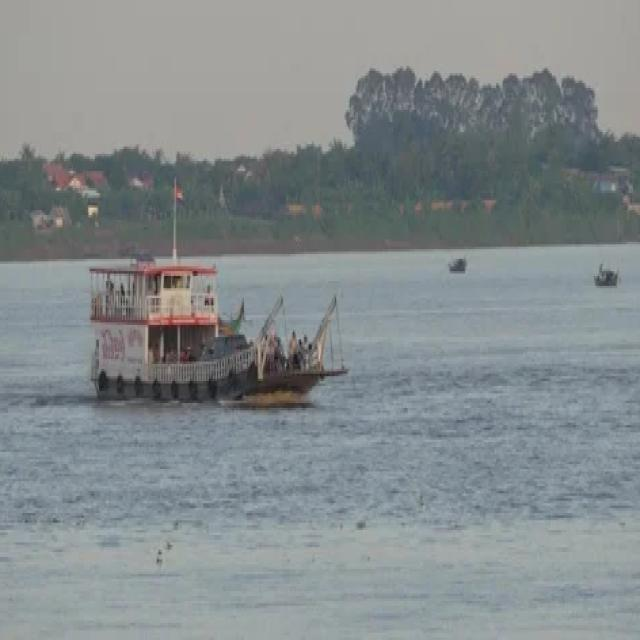houseboat: (71, 218, 342, 430)
